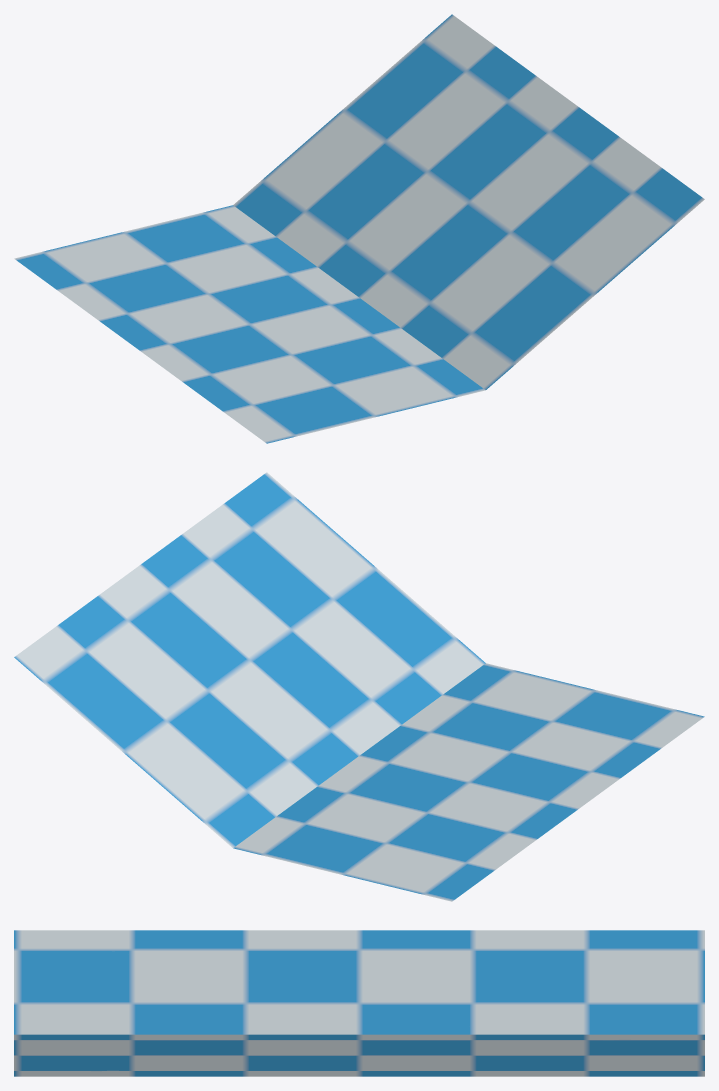
The model's file is two-shells-embedded.fbx.
The picture shows the model from 3 angles, top to bottom: view 1: azimuth 30°, elevation 25°; view 2: azimuth 150°, elevation 25°; view 3: azimuth 270°, elevation 25°; orthographic projection. The views are drawn at different scales.
Visible parts, largest first — view 1: Two connected UV shells; view 2: Two connected UV shells; view 3: Two connected UV shells.
Part boxes in pixels (x1,y1,x2,y2): Two connected UV shells: (14,14,704,443); Two connected UV shells: (14,472,704,901); Two connected UV shells: (14,930,704,1076).
Size of the model in its own units: 200 by 60 by 200.
Materials: 1 (1 with a texture image).
